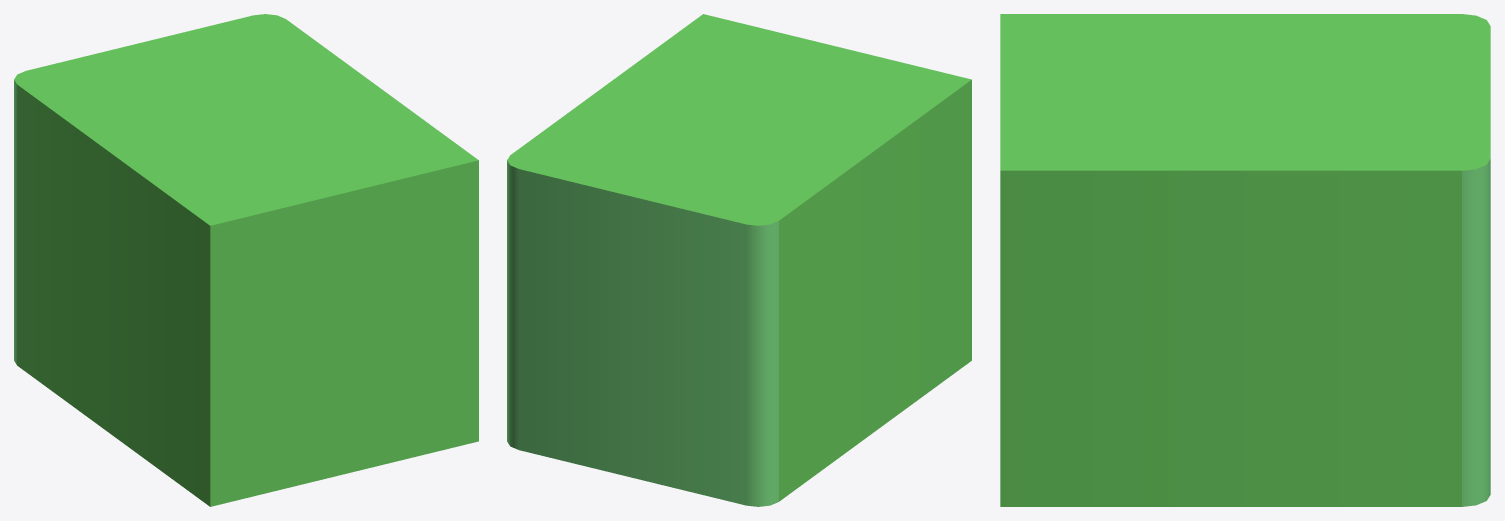
File: road.fbx
The picture shows the model from 3 angles, left to right: view 1: azimuth 30°, elevation 25°; view 2: azimuth 150°, elevation 25°; view 3: azimuth 270°, elevation 25°; orthographic projection. The views are drawn at different scales.
Visible parts, largest first — view 1: Cube.021; view 2: Cube.021; view 3: Cube.021.
Part boxes in pixels (bbox=[...]): Cube.021: bbox=[14, 14, 478, 506]; Cube.021: bbox=[507, 14, 971, 506]; Cube.021: bbox=[1000, 14, 1490, 506].
Bounding box in the file's own units: 0.6899 × 0.6899 × 0.9114.
